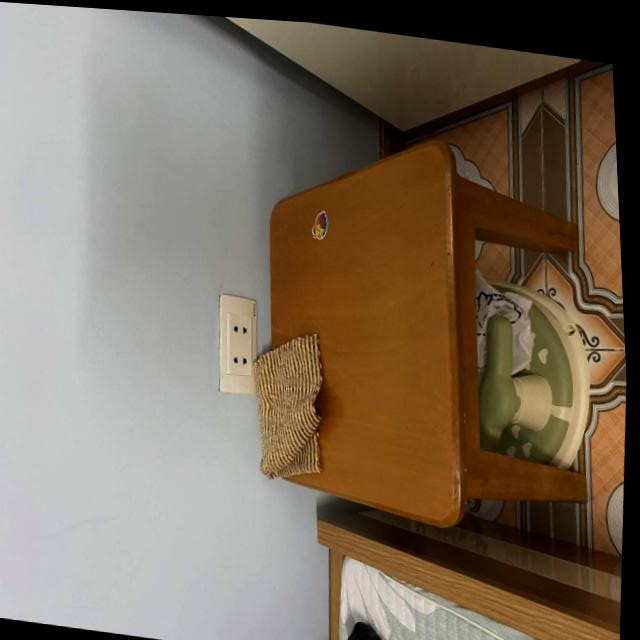outlet: (211, 293, 263, 399)
